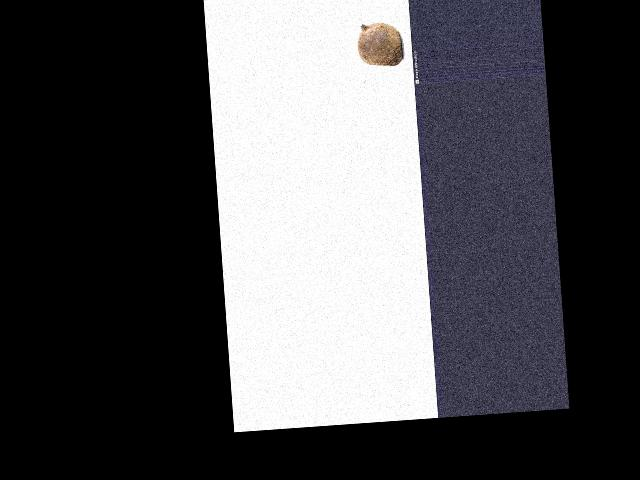beet: (356, 20, 404, 67)
